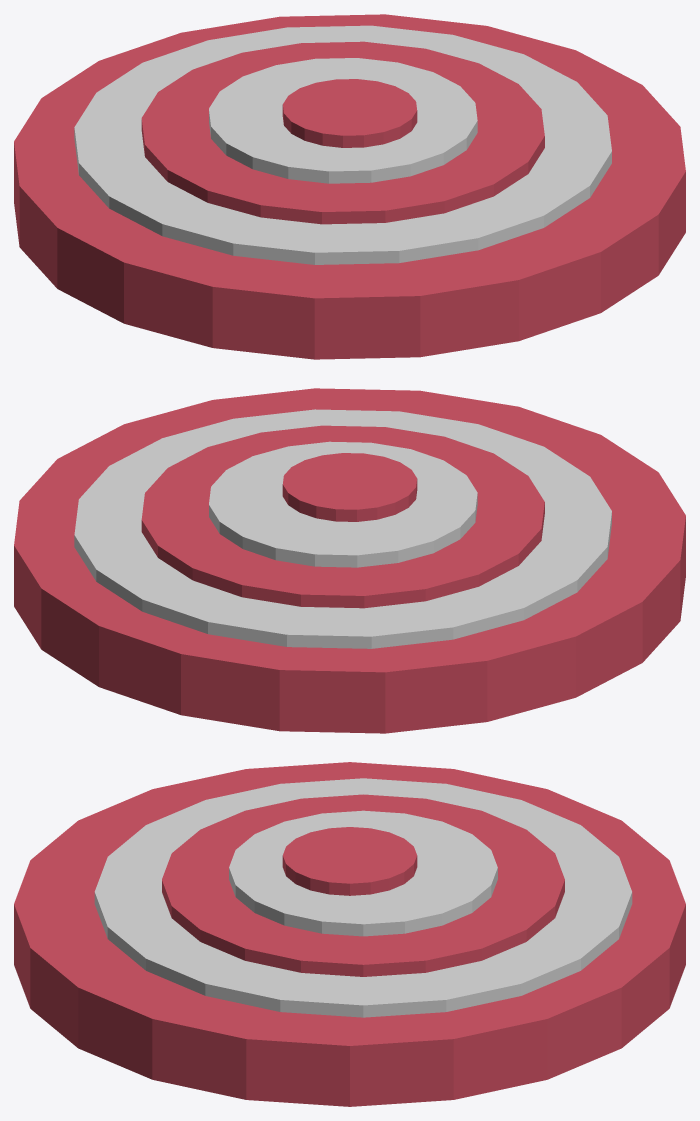
File: target.glb
3 renders of one model, top to bottom at view 1: azimuth 30°, elevation 25°; view 2: azimuth 150°, elevation 25°; view 3: azimuth 270°, elevation 25°, orthographic.
Parts seen in each view (by area): view 1: Mesh_Mesh_head_geo.001_lambert2SG.001; view 2: Mesh_Mesh_head_geo.001_lambert2SG.001; view 3: Mesh_Mesh_head_geo.001_lambert2SG.001.
Boxes of the visible parts, <box> form: Mesh_Mesh_head_geo.001_lambert2SG.001: <box>14,14,685,359</box>; Mesh_Mesh_head_geo.001_lambert2SG.001: <box>14,388,685,733</box>; Mesh_Mesh_head_geo.001_lambert2SG.001: <box>14,762,685,1106</box>.
Size of the model in its own units: 50 by 9 by 50.
